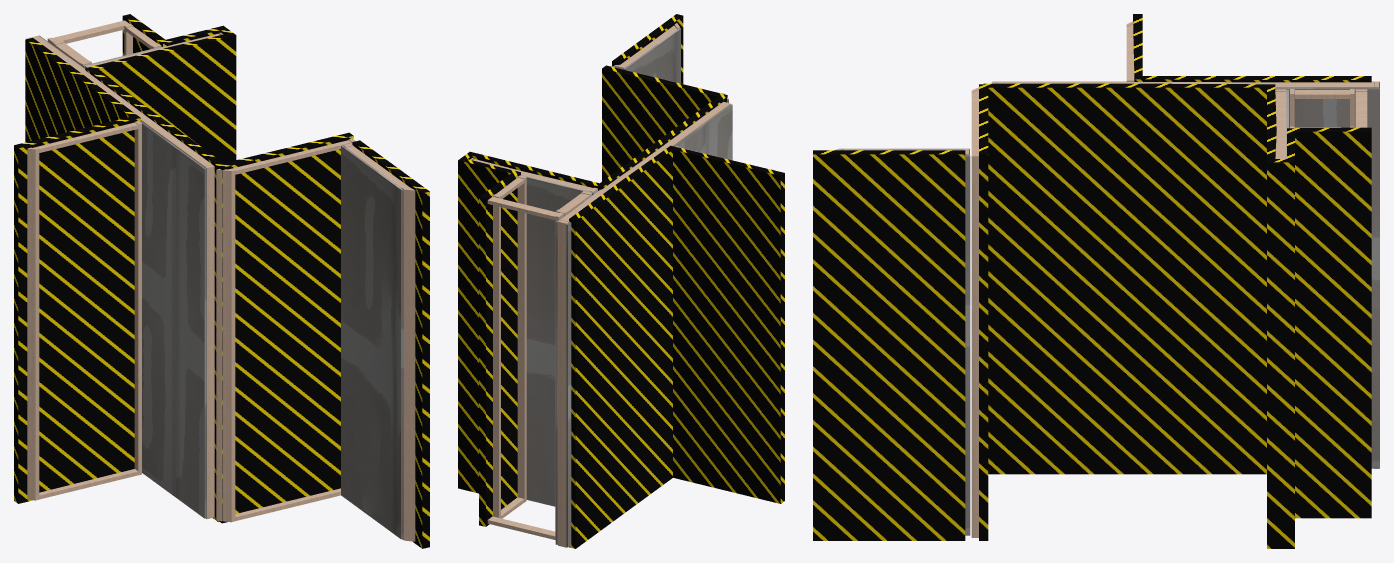
File: WALLSET_P.FBX
The picture shows the model from 3 angles, left to right: view 1: azimuth 30°, elevation 25°; view 2: azimuth 150°, elevation 25°; view 3: azimuth 270°, elevation 25°; orthographic projection. The views are drawn at different scales.
Visible parts, largest first — view 1: SELECTOR_10, FRAME_46, DRYWALL_10, DRYWALL_23; view 2: SELECTOR_10, FRAME_46, DRYWALL_09, DRYWALL_10, DRYWALL_23; view 3: SELECTOR_10, FRAME_46, DRYWALL_10, DRYWALL_23.
Part boxes in pixels (x1,y1,x2,y2): SELECTOR_10: (14, 14, 429, 548); FRAME_46: (27, 20, 415, 541); DRYWALL_10: (26, 35, 206, 518); DRYWALL_23: (341, 145, 403, 539); SELECTOR_10: (458, 14, 784, 548); FRAME_46: (470, 23, 774, 547); DRYWALL_09: (520, 175, 593, 506); DRYWALL_10: (555, 104, 732, 547); DRYWALL_23: (613, 28, 680, 83); SELECTOR_10: (813, 14, 1371, 548); FRAME_46: (835, 21, 1378, 537); DRYWALL_10: (992, 81, 1379, 468); DRYWALL_23: (839, 148, 970, 535).
Size of the model in its own units: 74.27 by 90.28 by 120.
